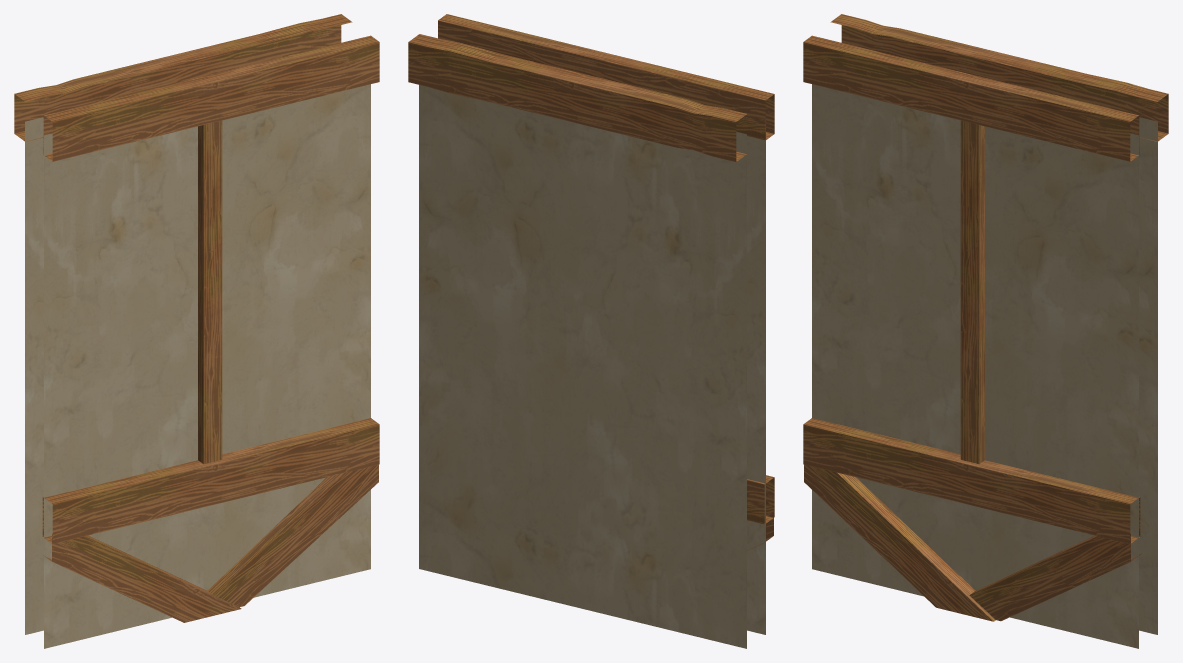
Rendered from Wall_Plaster_Straight.gltf.
The picture shows the model from 3 angles, left to right: view 1: azimuth 30°, elevation 25°; view 2: azimuth 150°, elevation 25°; view 3: azimuth 330°, elevation 25°; orthographic projection.
Parts seen in each view (by area): view 1: Wall_Plaster_Straight; view 2: Wall_Plaster_Straight; view 3: Wall_Plaster_Straight.
Boxes of the visible parts, left/top/right/bottom form: Wall_Plaster_Straight: left=14, top=14, right=379, bottom=648; Wall_Plaster_Straight: left=408, top=14, right=774, bottom=648; Wall_Plaster_Straight: left=803, top=14, right=1168, bottom=648.
Bounding box in the file's own units: 2 × 3.12 × 0.4065.
2 materials, 2 textured.
